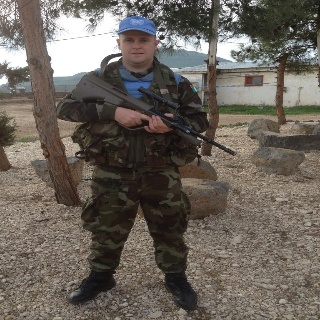rifle: (69, 71, 238, 165)
